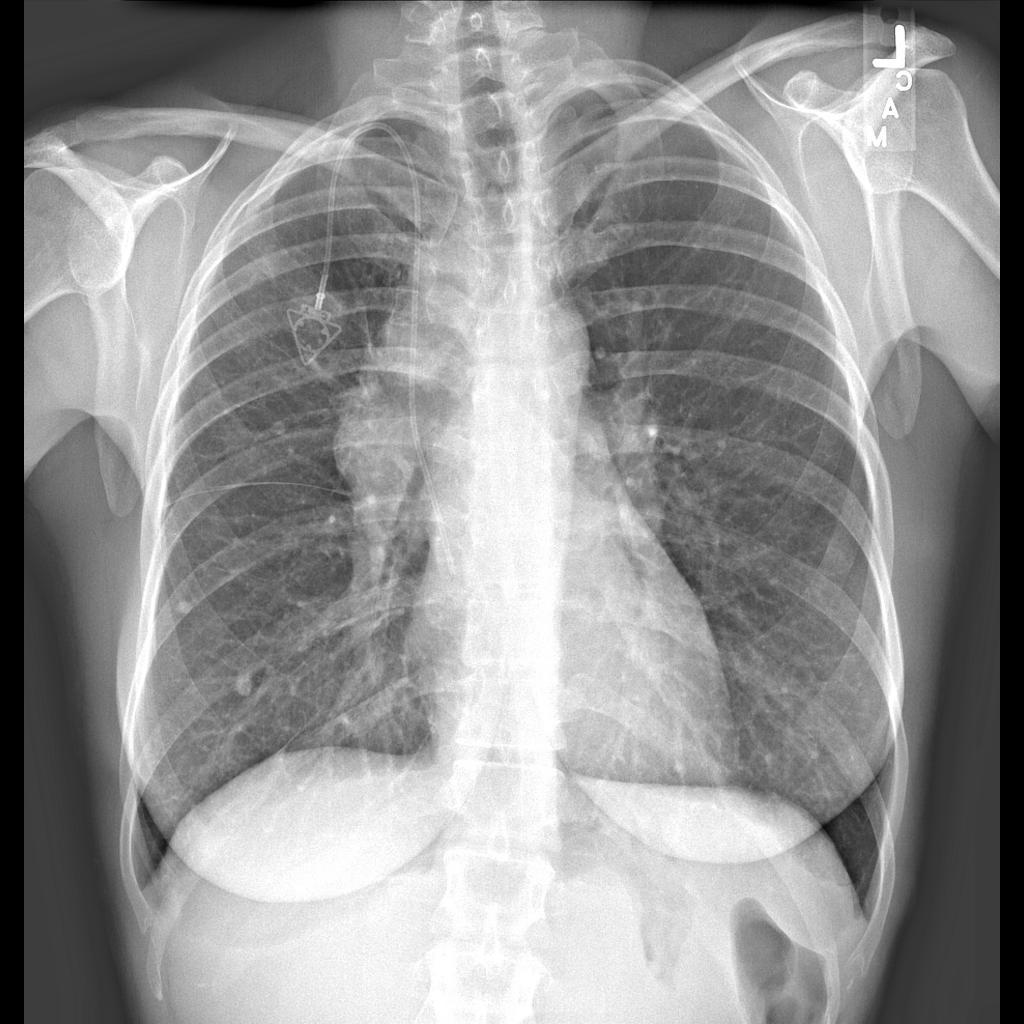Nodule: (232, 671, 263, 709), (171, 596, 197, 624)
